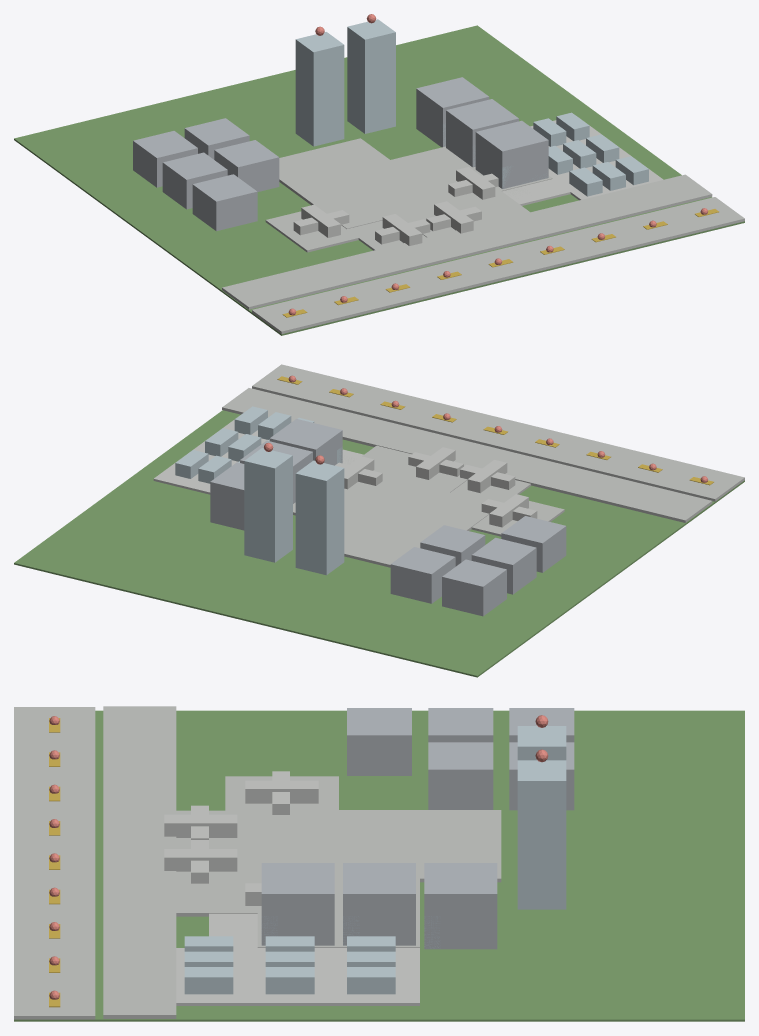
Rendered from stage_24.glb.
The picture shows the model from 3 angles, top to bottom: view 1: azimuth 30°, elevation 25°; view 2: azimuth 150°, elevation 25°; view 3: azimuth 270°, elevation 25°; orthographic projection. The views are drawn at different scales.
Visible parts, largest first — view 1: geometry_0; view 2: geometry_0; view 3: geometry_0.
Part boxes in pixels (x1,y1,x2,y2): geometry_0: (14, 14, 744, 335); geometry_0: (14, 364, 744, 677); geometry_0: (14, 706, 744, 1021).
Bounding box in the file's own units: 9 × 2.06 × 9.
